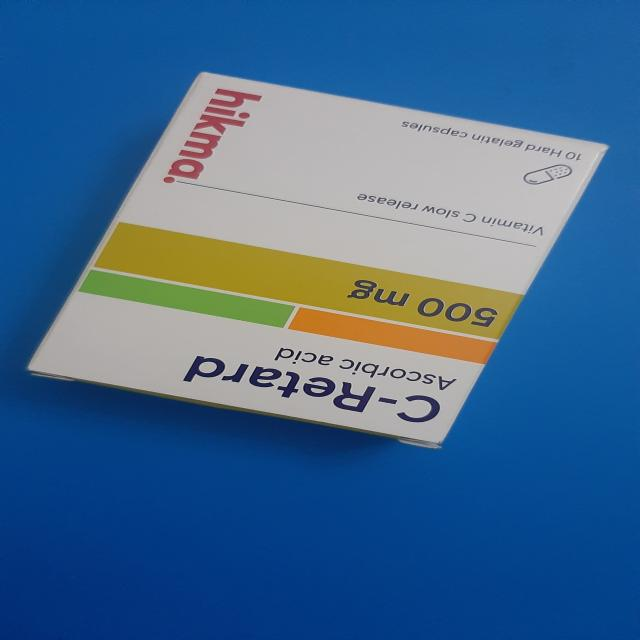C-Retard: (25, 64, 610, 462)
